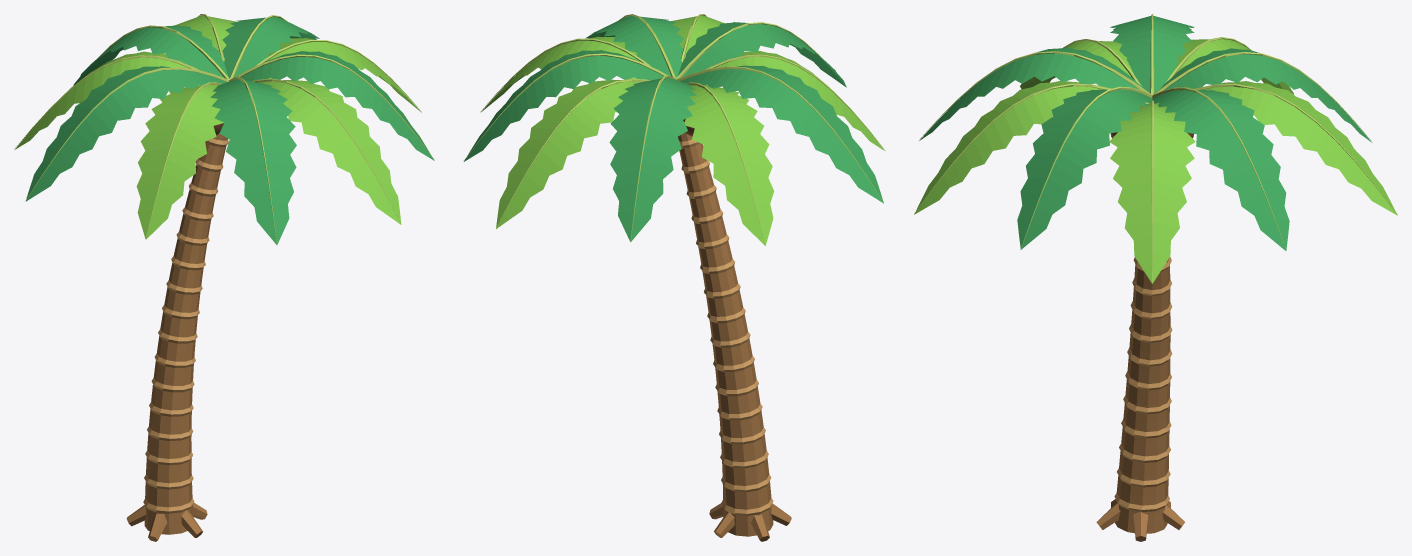
File: coconut-palm.glb
The picture shows the model from 3 angles, left to right: view 1: azimuth 30°, elevation 25°; view 2: azimuth 150°, elevation 25°; view 3: azimuth 270°, elevation 25°; orthographic projection. The views are drawn at different scales.
Parts seen in each view (by area): view 1: CoconutPalm.001; view 2: CoconutPalm.001; view 3: CoconutPalm.001.
Part boxes in pixels (x1,y1,x2,y2): CoconutPalm.001: (14,14,434,541); CoconutPalm.001: (463,14,885,541); CoconutPalm.001: (914,14,1397,541).
Size of the model in its own units: 6.3 by 6.93 by 6.13.
